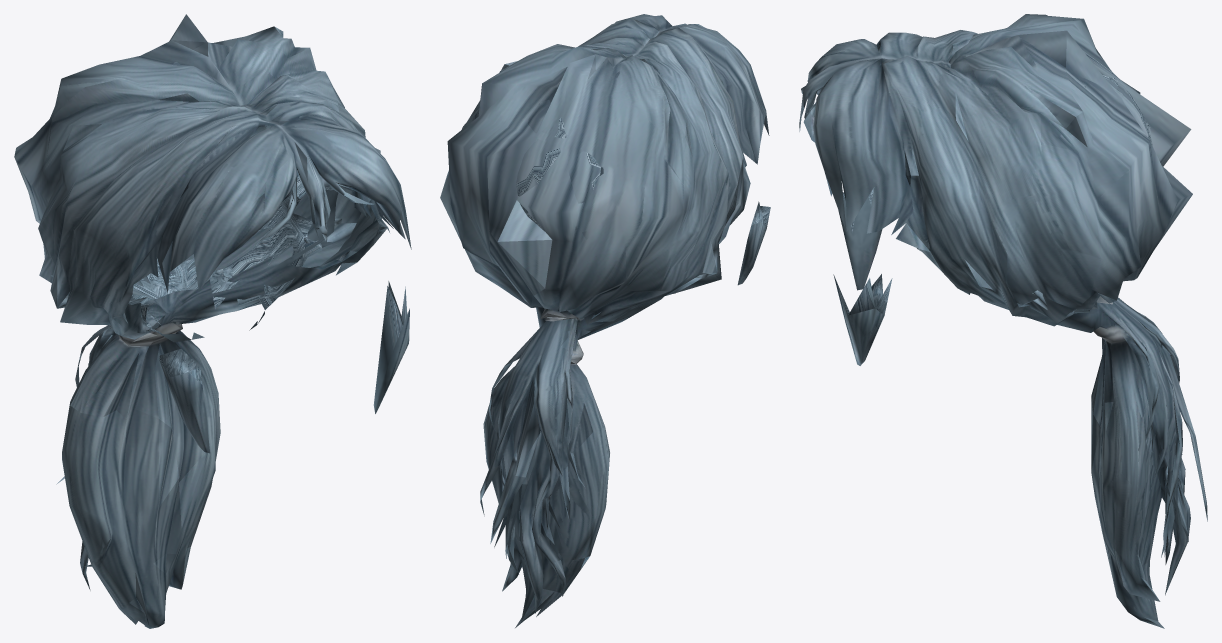
The model's file is rabo_cavalo.glb.
The picture shows the model from 3 angles, left to right: view 1: azimuth 30°, elevation 25°; view 2: azimuth 150°, elevation 25°; view 3: azimuth 270°, elevation 25°; orthographic projection. The views are drawn at different scales.
Visible parts, largest first — view 1: cabelo_rabo_cavalo; view 2: cabelo_rabo_cavalo; view 3: cabelo_rabo_cavalo.
Boxes of the visible parts, bbox=[...] form: cabelo_rabo_cavalo: bbox=[14, 14, 411, 628]; cabelo_rabo_cavalo: bbox=[440, 14, 770, 627]; cabelo_rabo_cavalo: bbox=[799, 14, 1207, 628].
Bounding box in the file's own units: 0.1655 × 0.3376 × 0.2109.
Materials: 1 (1 with a texture image).
